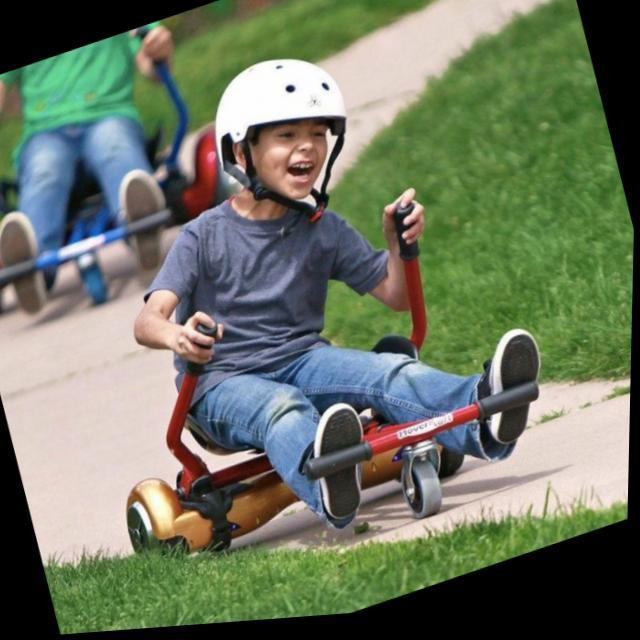Helmet: (208, 46, 356, 215)
